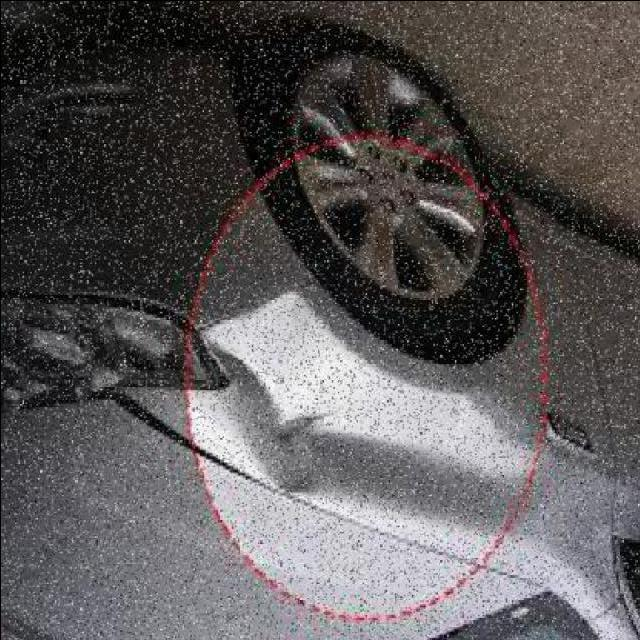fender-dent: (201, 283, 604, 514)
